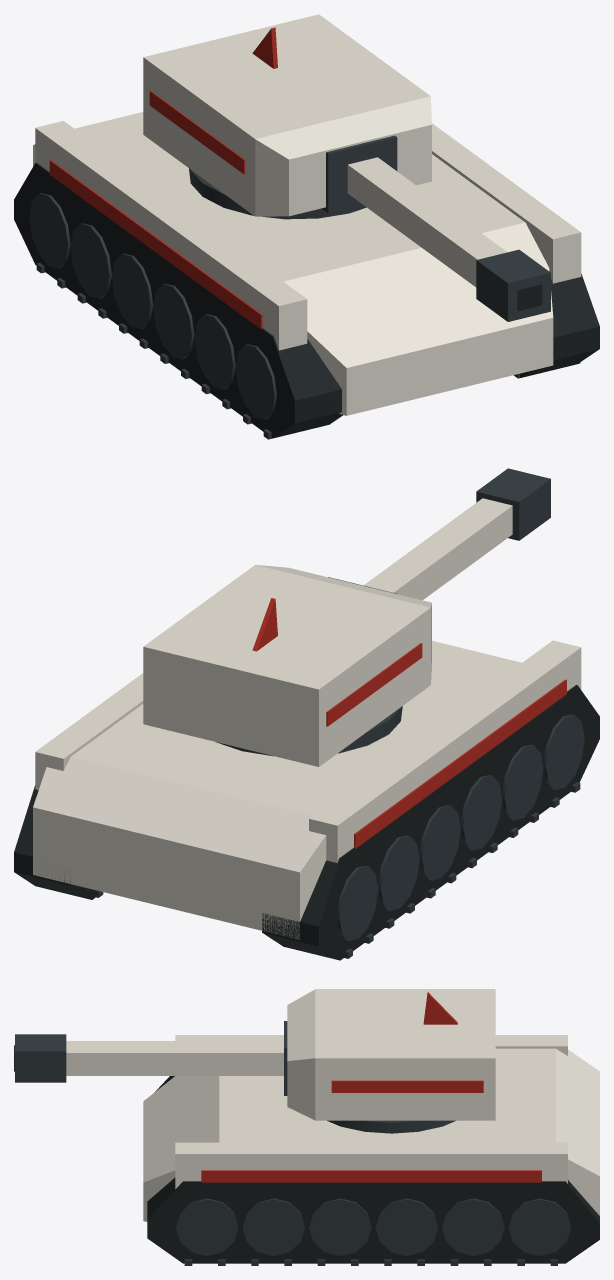
3 renders of one model, top to bottom at view 1: azimuth 30°, elevation 25°; view 2: azimuth 150°, elevation 25°; view 3: azimuth 270°, elevation 25°, orthographic. The views are drawn at different scales.
Parts seen in each view (by area): view 1: tank-fleet-armor, turret-fleet-armor, tank-fleet-rubber, tank-fleet-machine, barrel-fleet-armor, barrel-fleet-machine, tank-fleet-red, turret-fleet-red, barrel-fleet-rubber; view 2: tank-fleet-armor, turret-fleet-armor, tank-fleet-rubber, tank-fleet-machine, barrel-fleet-armor, tank-fleet-red, barrel-fleet-machine, turret-fleet-red; view 3: tank-fleet-armor, turret-fleet-armor, tank-fleet-rubber, tank-fleet-machine, barrel-fleet-armor, tank-fleet-red, barrel-fleet-machine, turret-fleet-red.
Boxes of the visible parts, left/top/right/bottom form: tank-fleet-armor: left=33, top=112, right=581, bottom=415; turret-fleet-armor: left=143, top=14, right=431, bottom=216; tank-fleet-rubber: left=14, top=162, right=599, bottom=438; tank-fleet-machine: left=29, top=168, right=580, bottom=439; barrel-fleet-armor: left=347, top=157, right=507, bottom=287; barrel-fleet-machine: left=321, top=135, right=550, bottom=321; tank-fleet-red: left=49, top=160, right=262, bottom=328; turret-fleet-red: left=149, top=27, right=277, bottom=174; barrel-fleet-rubber: left=517, top=284, right=542, bottom=310; tank-fleet-armor: left=33, top=640, right=581, bottom=939; turret-fleet-armor: left=143, top=565, right=431, bottom=766; tank-fleet-rubber: left=14, top=685, right=599, bottom=960; tank-fleet-machine: left=96, top=706, right=584, bottom=958; barrel-fleet-armor: left=363, top=498, right=512, bottom=600; tank-fleet-red: left=354, top=679, right=566, bottom=848; barrel-fleet-machine: left=328, top=468, right=550, bottom=593; turret-fleet-red: left=252, top=598, right=422, bottom=726; tank-fleet-armor: left=143, top=1035, right=599, bottom=1221; turret-fleet-armor: left=287, top=989, right=495, bottom=1120; tank-fleet-rubber: left=147, top=1076, right=599, bottom=1263; tank-fleet-machine: left=176, top=1120, right=570, bottom=1265; barrel-fleet-armor: left=66, top=1041, right=283, bottom=1075; tank-fleet-red: left=201, top=1170, right=541, bottom=1182; barrel-fleet-machine: left=15, top=1021, right=287, bottom=1095; turret-fleet-red: left=331, top=992, right=483, bottom=1092.
Bounding box in the file's own units: 21.11 × 17.02 × 42.63.
